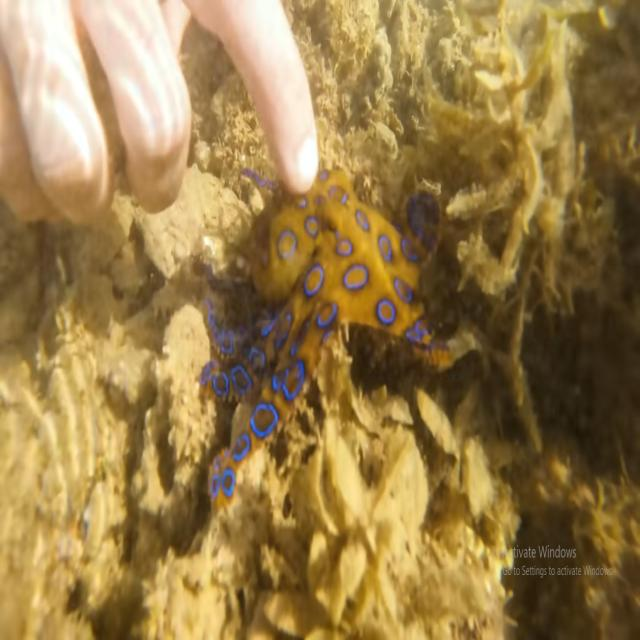blue_ringed_octopus: (195, 168, 455, 510)
